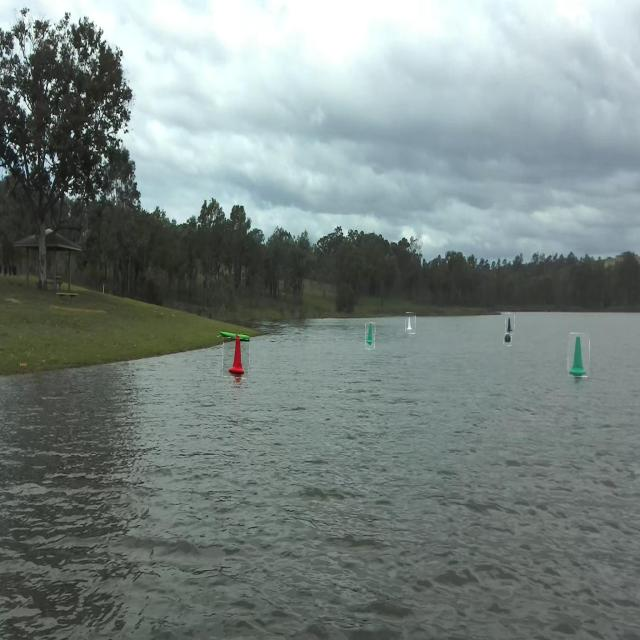Black_Buoy: (501, 313, 518, 331), (501, 332, 517, 348)
Green_Buoy: (570, 328, 590, 380), (358, 315, 382, 357)
Red_Buoy: (220, 334, 255, 382)
White_Buoy: (404, 315, 413, 331)
